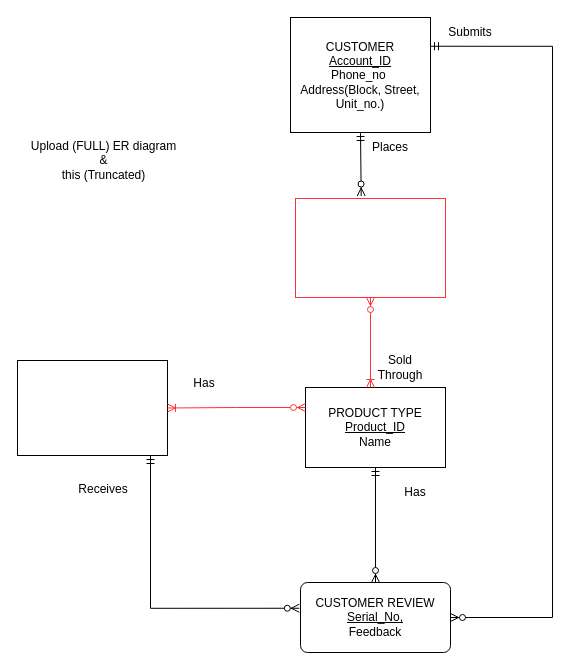
Image size: 579x670. Some labels were removed from this diagram. Here are the shapes that lost their labels. From the top down, the centre of each, then its label:
the point at 370,248: ORDER Order_ID Total Cost
the point at 92,408: SUPPLIER SupplierID S_Name
